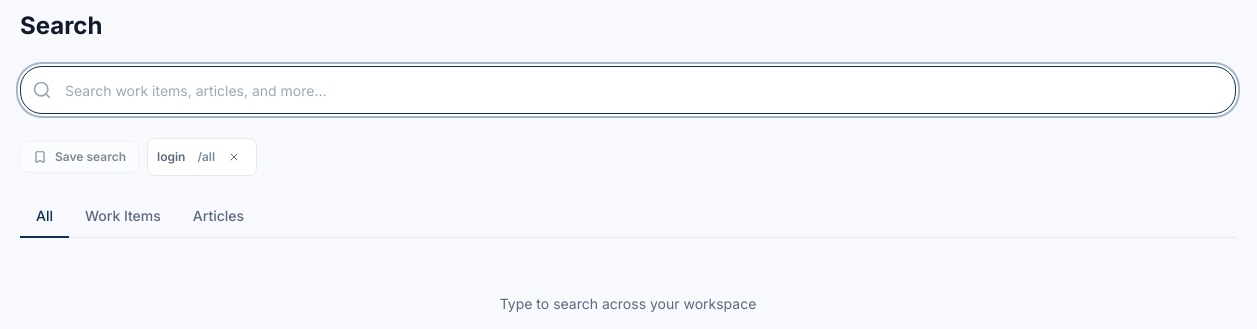
Test case: SearchView › removes a saved search refinement
Click the button named "remove saved search login": (234, 157) [220, 143, 248, 171]
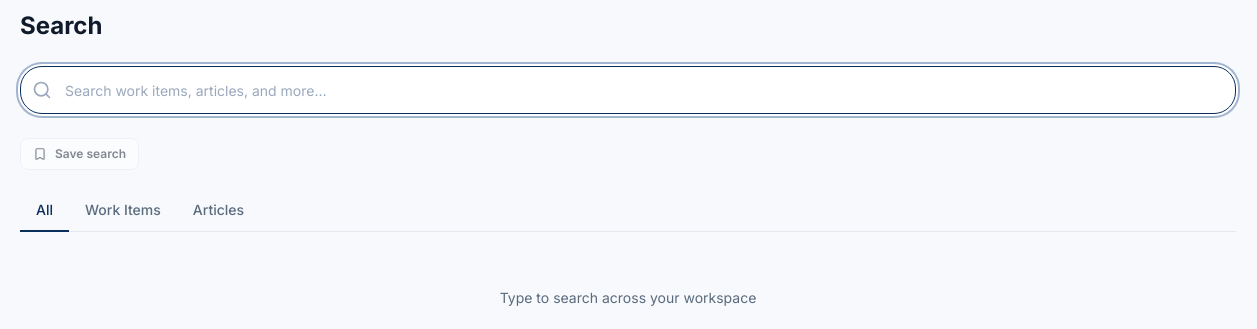
Expected: the button "login" is gone
